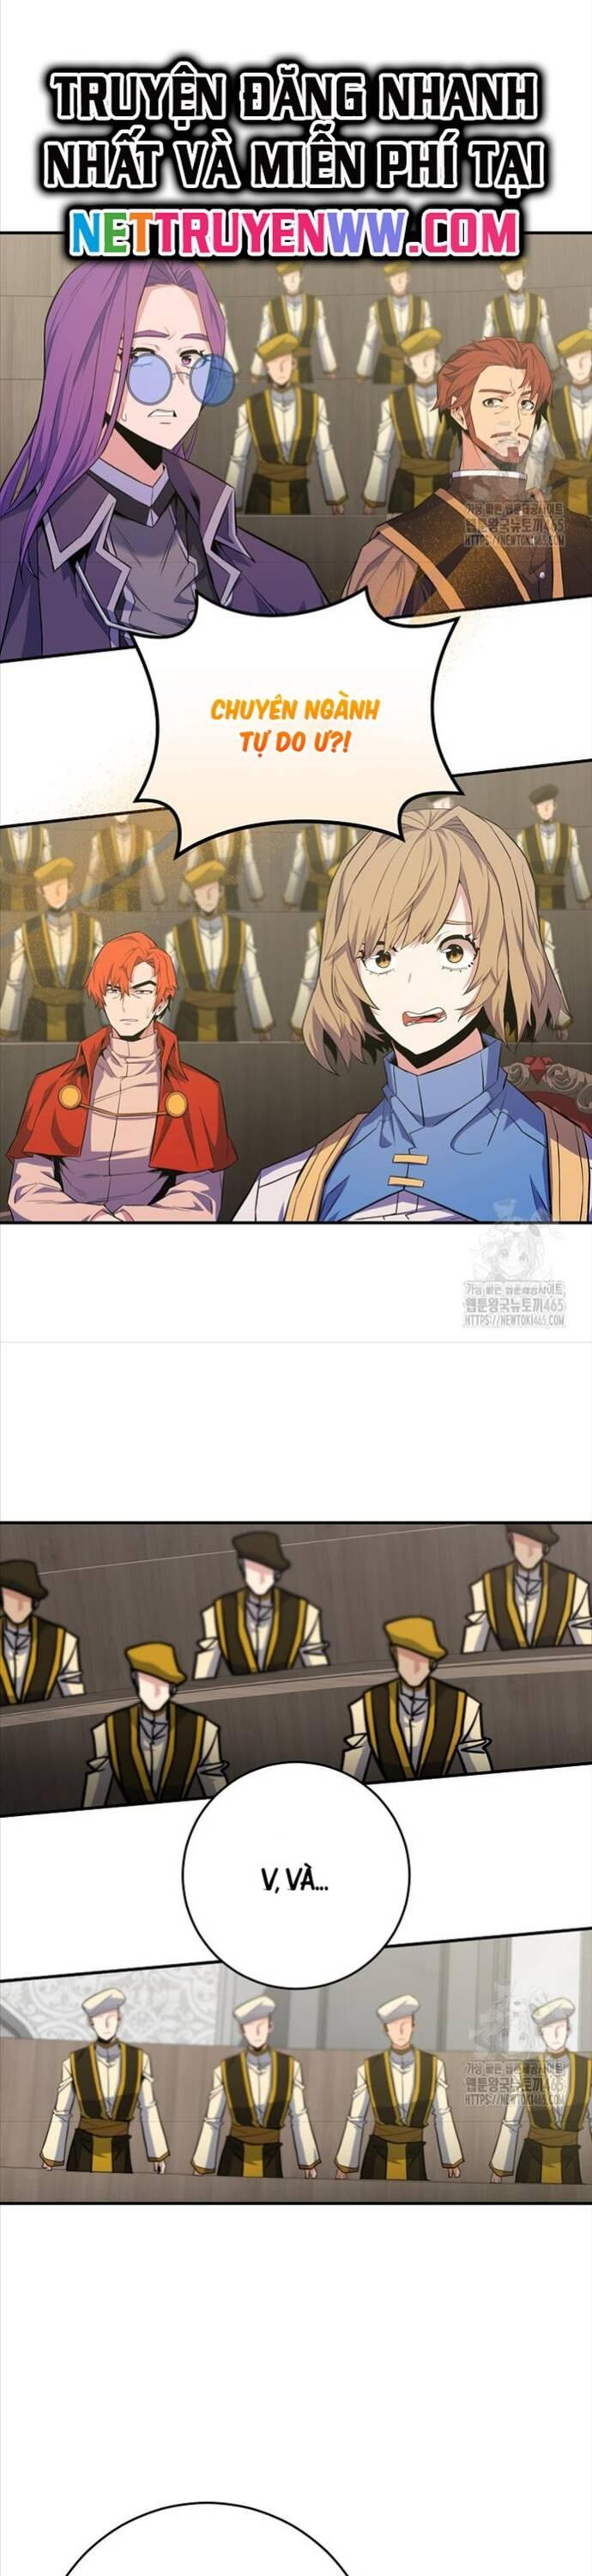quangcao: (43, 51, 558, 261)
